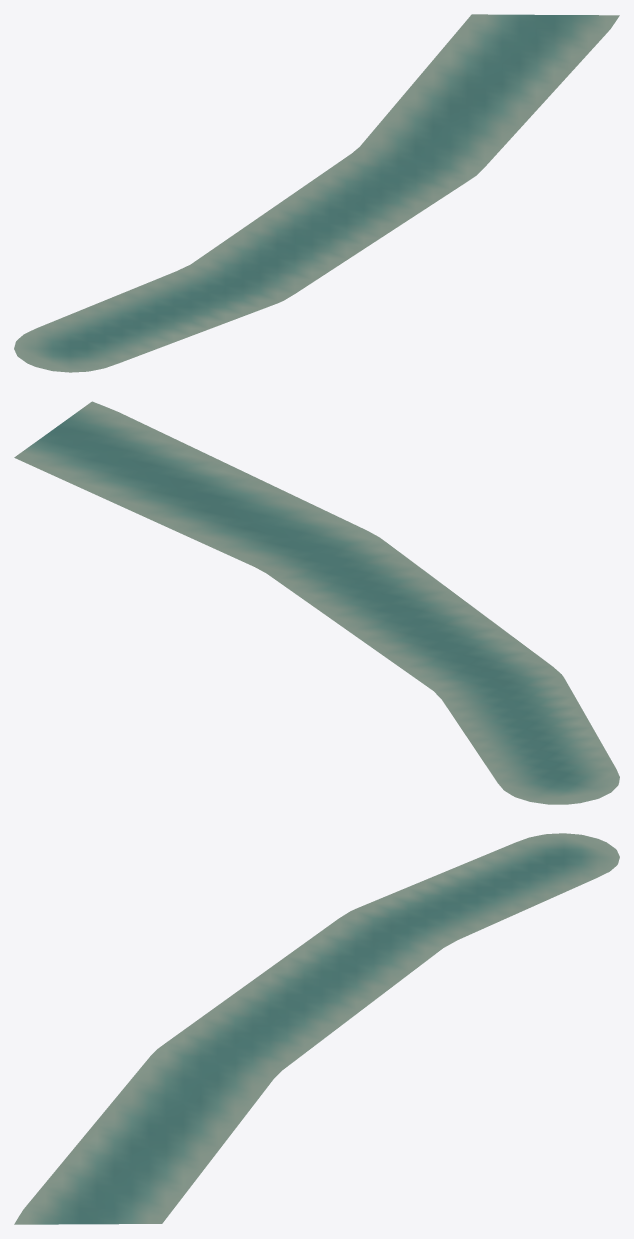
File: SM_BM_BC_Water_0.glb
3 views of the same model, one above another, from view 1: azimuth 90°, elevation 25°; view 2: azimuth 150°, elevation 25°; view 3: azimuth 270°, elevation 25° (orthographic). The views are drawn at different scales.
Visible parts, largest first — view 1: SM_BM_BC_Water_0; view 2: SM_BM_BC_Water_0; view 3: SM_BM_BC_Water_0.
Boxes of the visible parts, x1,y1,x2,y2 form: SM_BM_BC_Water_0: [14, 14, 619, 372]; SM_BM_BC_Water_0: [14, 401, 619, 804]; SM_BM_BC_Water_0: [14, 833, 619, 1224].
Size of the model in its own units: 205 by 4.36 by 140.
